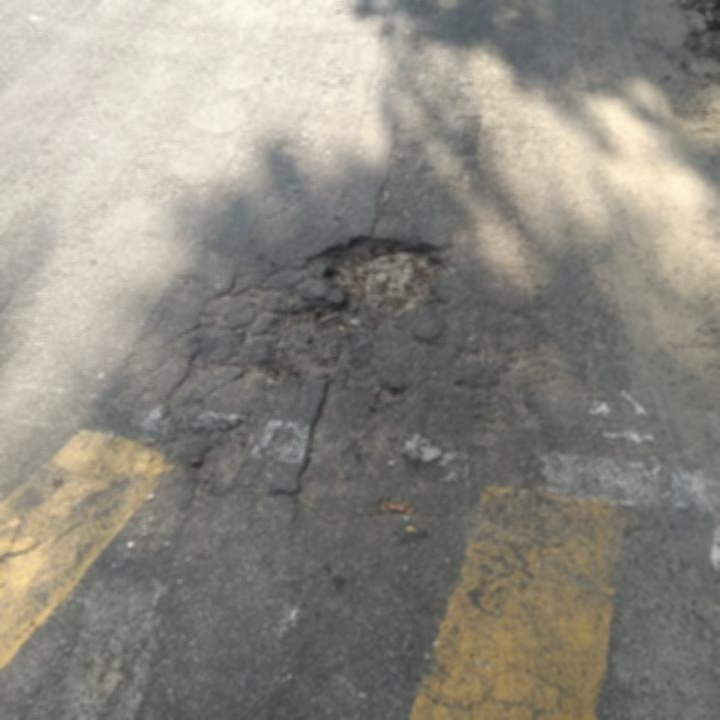pothole: (305, 232, 456, 323), (262, 297, 361, 380), (188, 422, 255, 502)
